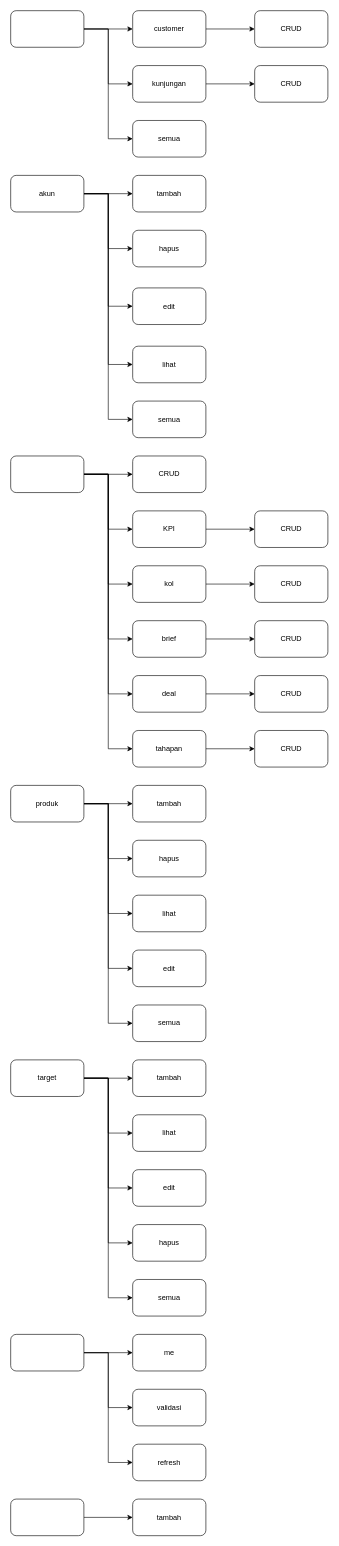
The diagram is 339 pixels wide and 1546 high, and some of its shapes have lost their labels. The shapes that lost their labels are listed below. From the top down, each one's centre as x and y in pixels, then its label:
At pixel 47 28: "lead".
At pixel 47 474: "campaign".
At pixel 47 1352: "auth".
At pixel 47 1517: "file".
